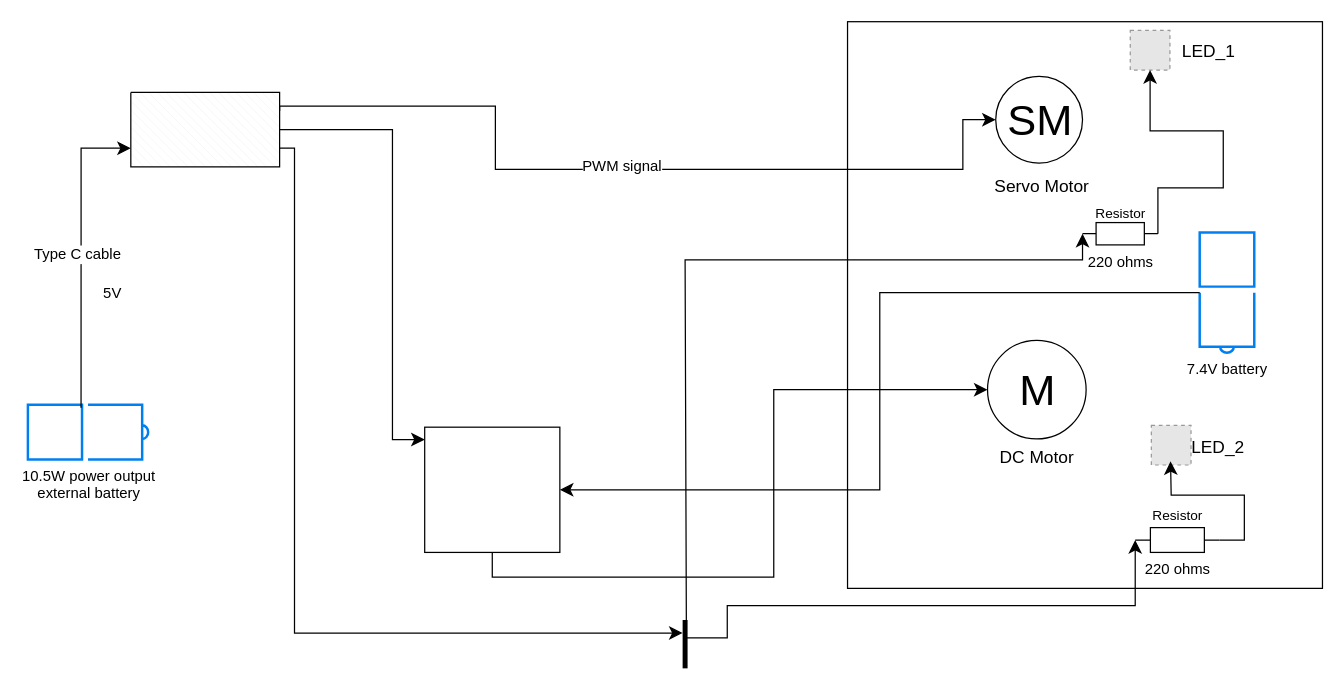
Some shapes in this 1344 by 692 pixel diagram are drawn without their labels. Grey dashed boxes stand in for pictures. The box of each missing label's shape, as (x1, y1, x2, y2) in pixels:
DRV8871 motor driver: (423, 426, 560, 552)
Raspberry Pi board: (130, 91, 280, 167)
